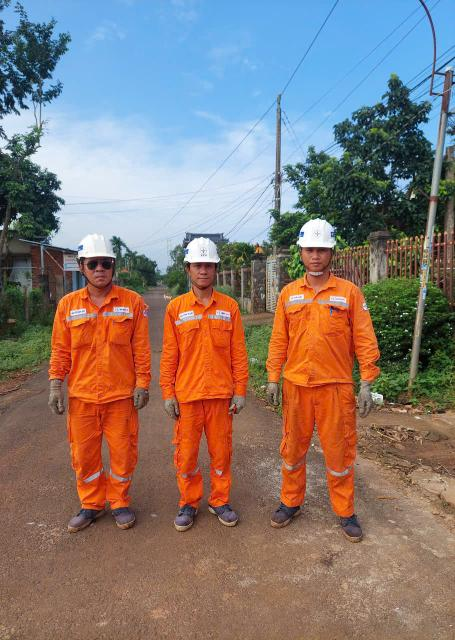gloves: (356, 375, 376, 422), (49, 372, 68, 418), (226, 383, 247, 419), (263, 378, 283, 410), (129, 387, 151, 413), (161, 395, 181, 418)
helmet: (285, 217, 347, 251), (170, 238, 228, 266), (73, 231, 124, 260)
shoes: (333, 498, 365, 545), (68, 496, 109, 532), (272, 485, 302, 530), (167, 496, 204, 532), (107, 491, 135, 534), (209, 494, 242, 526)
